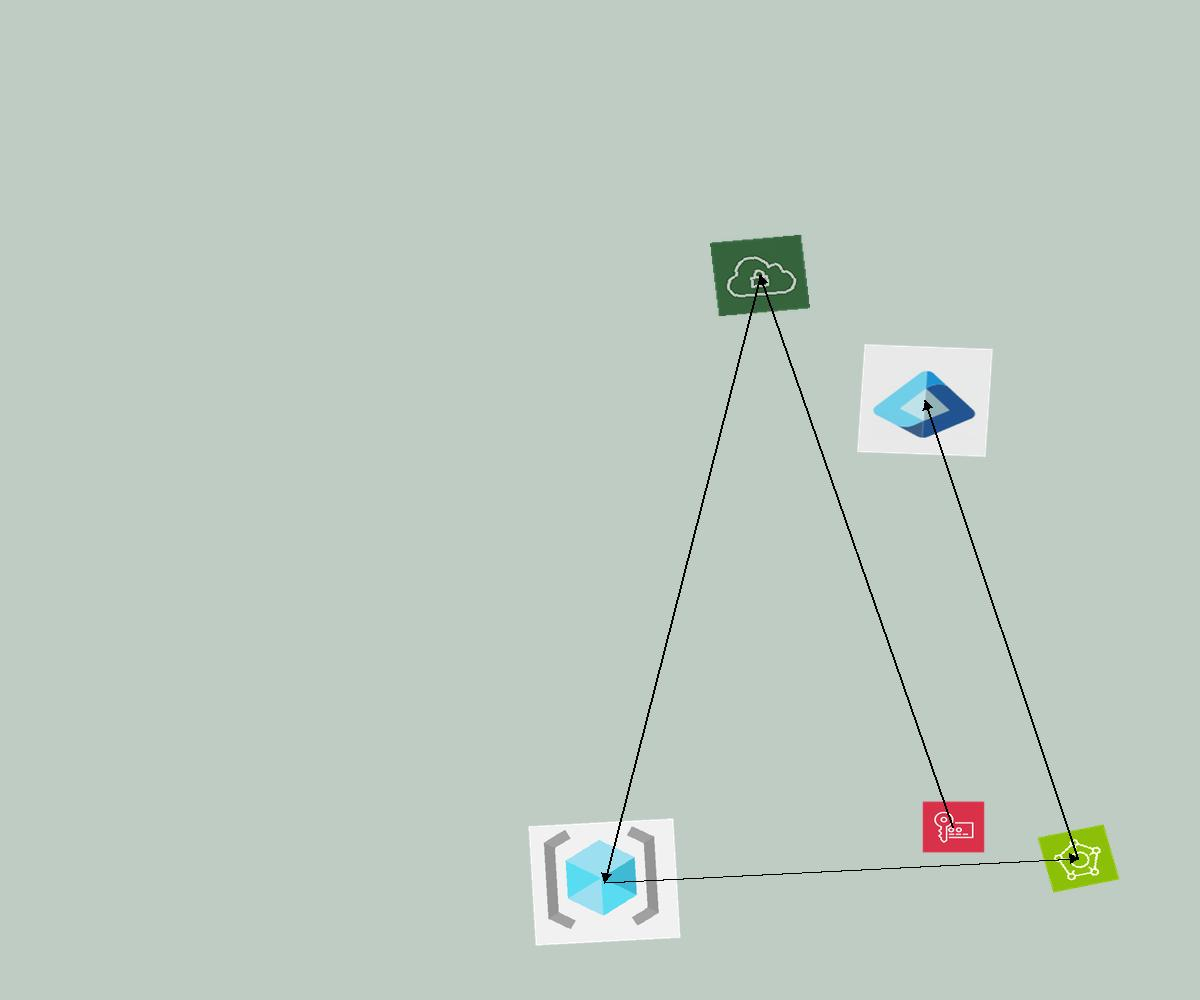AWS-Backup: (1037, 824, 1120, 893)
AWS-Key-Management-Service: (922, 801, 985, 853)
AWS-Private_vpc: (710, 234, 810, 317)
Azure_microsoft_entra: (857, 344, 993, 457)
Azure_resource_group: (528, 818, 681, 946)
